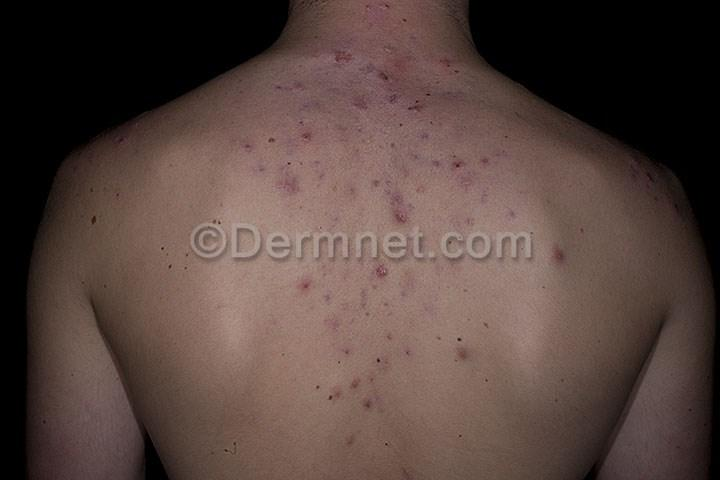Acne: (291, 259, 411, 441), (343, 128, 511, 231), (321, 28, 471, 119), (236, 121, 325, 206), (612, 143, 688, 231), (530, 212, 578, 278), (441, 334, 491, 379)
